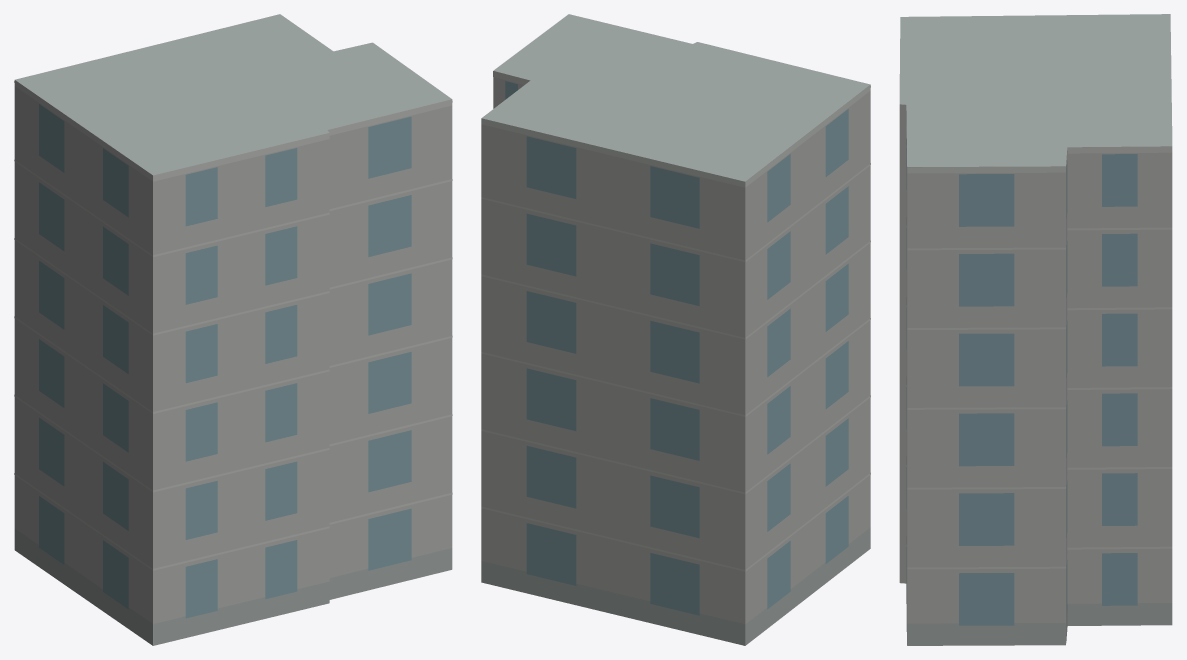
The model's file is survey-upis-33001532.glb.
3 renders of one model, left to right at view 1: azimuth 30°, elevation 25°; view 2: azimuth 150°, elevation 25°; view 3: azimuth 270°, elevation 25°, orthographic. The views are drawn at different scales.
Visible parts, largest first — view 1: survey-upis-33001532.tmp; view 2: survey-upis-33001532.tmp; view 3: survey-upis-33001532.tmp.
Part boxes in pixels (x1=…): survey-upis-33001532.tmp: x1=14, y1=14, x2=452, y2=645; survey-upis-33001532.tmp: x1=481, y1=14, x2=870, y2=645; survey-upis-33001532.tmp: x1=899, y1=14, x2=1172, y2=645.
Size of the model in its own units: 12.65 by 18.4 by 9.53.
